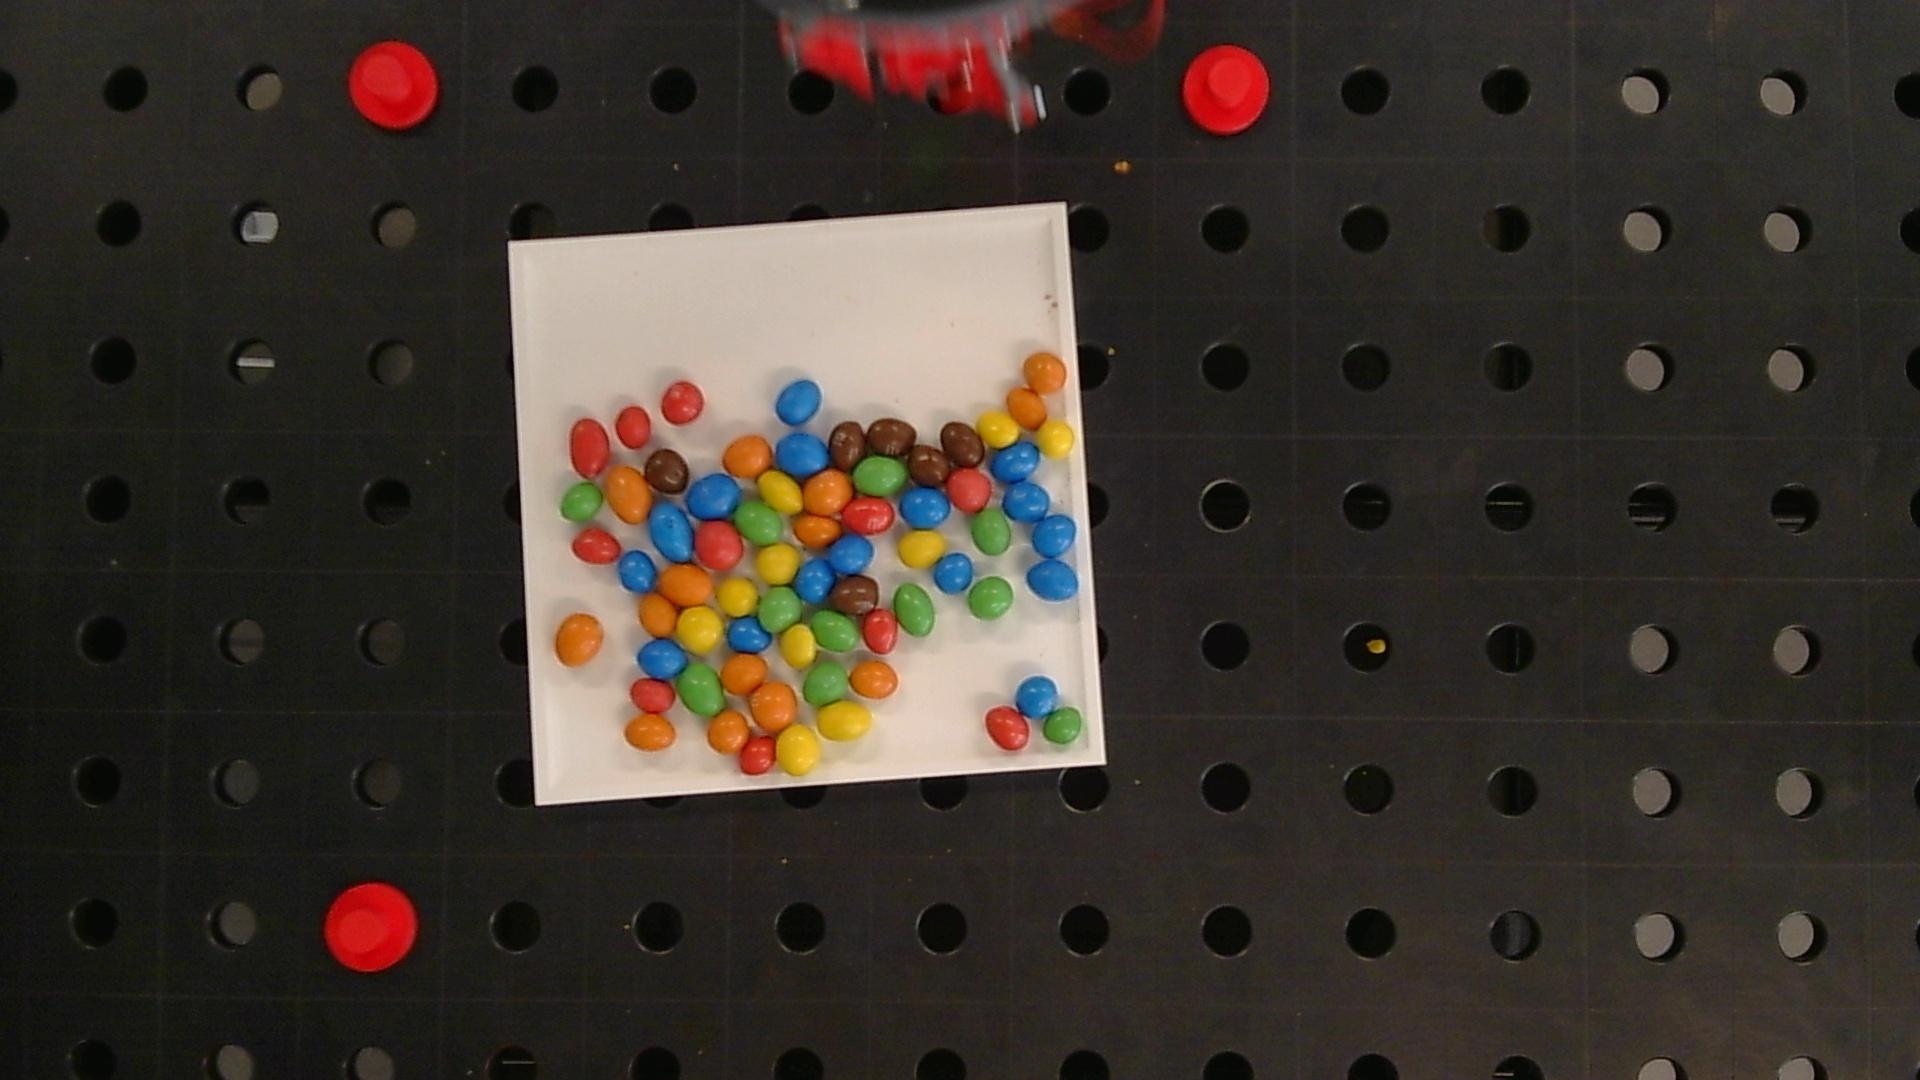blue: (650, 504, 694, 560), (687, 473, 741, 518), (777, 433, 829, 475), (1027, 559, 1079, 600), (775, 380, 822, 425), (992, 442, 1040, 483), (901, 488, 949, 527), (638, 638, 686, 678), (1002, 481, 1050, 521), (1033, 514, 1075, 556), (831, 533, 874, 574), (795, 558, 835, 603), (1017, 675, 1059, 716), (618, 551, 657, 592), (727, 616, 770, 651), (935, 554, 973, 593)
brown: (940, 421, 985, 467), (645, 448, 690, 495), (866, 418, 916, 456), (829, 421, 866, 469), (909, 444, 951, 485), (835, 576, 878, 615)
green: (679, 663, 724, 715), (894, 584, 935, 637), (855, 455, 907, 496), (735, 501, 785, 543), (969, 509, 1011, 555), (969, 576, 1013, 620), (803, 662, 848, 704), (812, 611, 858, 651), (760, 588, 802, 630), (560, 483, 603, 522), (1043, 707, 1085, 745)
orange: (605, 465, 653, 522), (750, 680, 798, 732), (555, 613, 603, 665), (659, 564, 713, 604), (803, 471, 852, 513), (724, 435, 773, 476), (849, 661, 899, 699), (624, 715, 676, 750), (707, 711, 749, 753), (1023, 352, 1067, 393), (721, 654, 766, 694), (1006, 386, 1047, 429), (793, 513, 840, 547), (640, 593, 676, 636)
red: (570, 418, 611, 476), (695, 521, 744, 568), (985, 705, 1030, 750), (841, 497, 895, 534), (661, 381, 704, 423), (947, 469, 990, 510), (571, 529, 621, 563), (862, 608, 898, 654), (615, 406, 651, 448), (630, 679, 675, 712), (738, 737, 775, 774)
yellow: (815, 702, 872, 741), (678, 607, 724, 653), (777, 725, 819, 774), (758, 471, 802, 512), (898, 531, 945, 567), (757, 545, 799, 583), (977, 410, 1019, 447), (717, 576, 757, 615), (781, 625, 816, 667), (1038, 419, 1075, 458)
